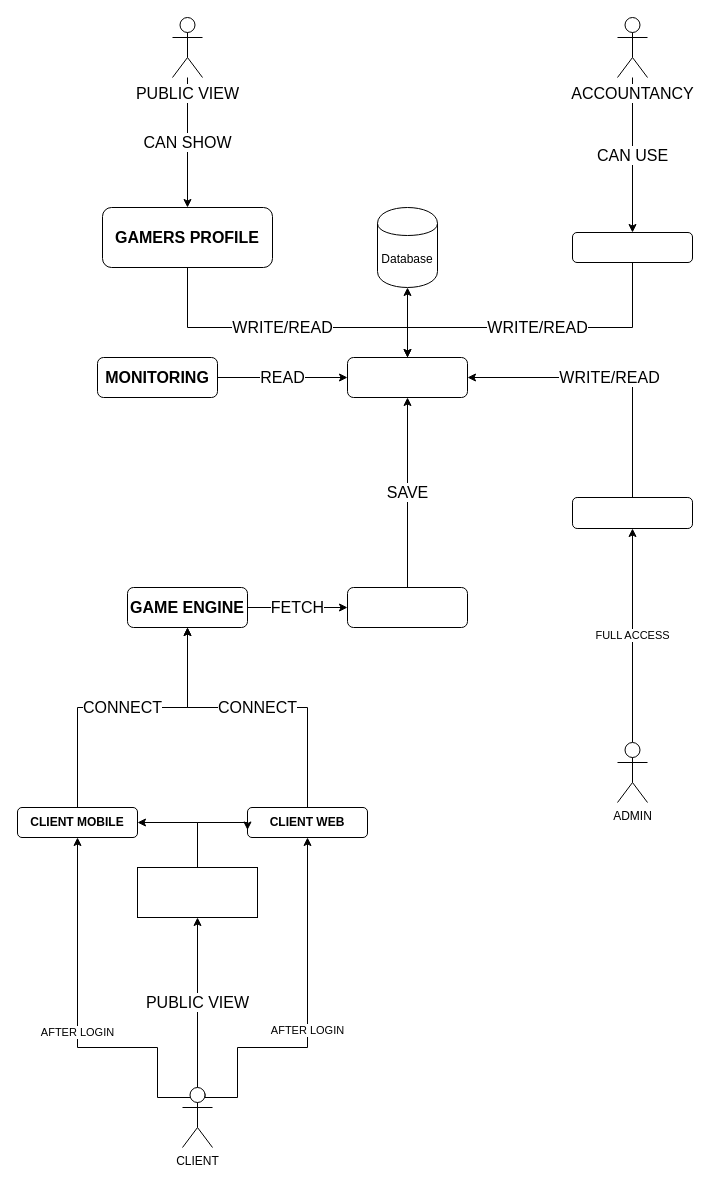
The diagram is 711 pixels wide and 1186 high, and some of its shapes have lost their labels. Each missing label, with the centre of its shape:
"ADMIN PANEL" belongs at point (632, 512).
"CASINO WEB PAGE" belongs at point (197, 892).
"DATA STORE" belongs at point (407, 377).
"REPORTER" belongs at point (632, 247).
"RNG" belongs at point (407, 607).
